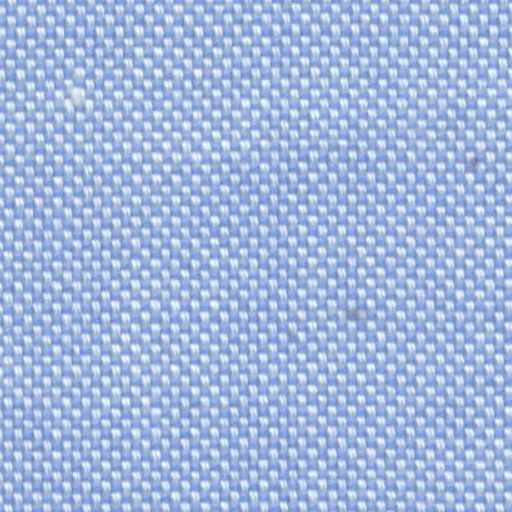WuZi: (338, 282, 392, 350), (452, 131, 500, 188)
